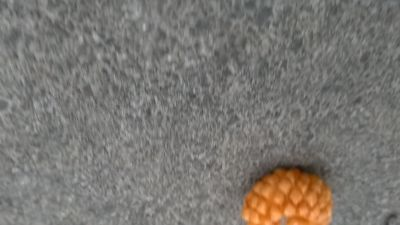eggs: (243, 165, 336, 225)
